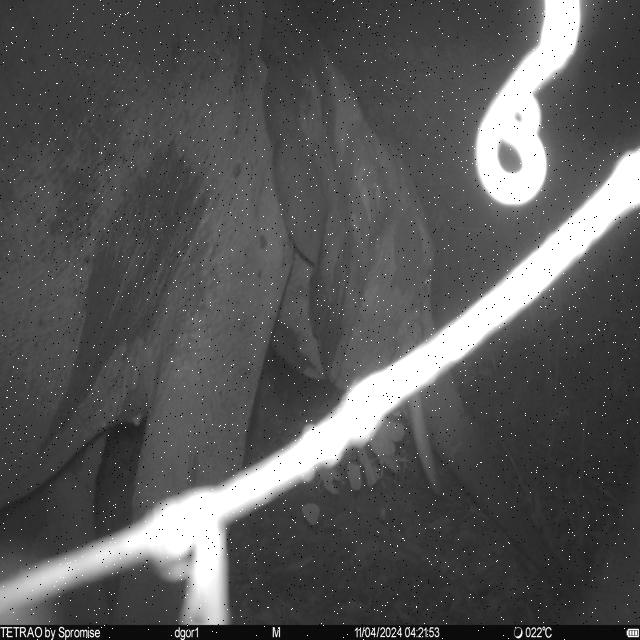ear: (260, 1, 372, 386)
elephant: (1, 0, 586, 624)
tusk: (408, 394, 444, 498)
